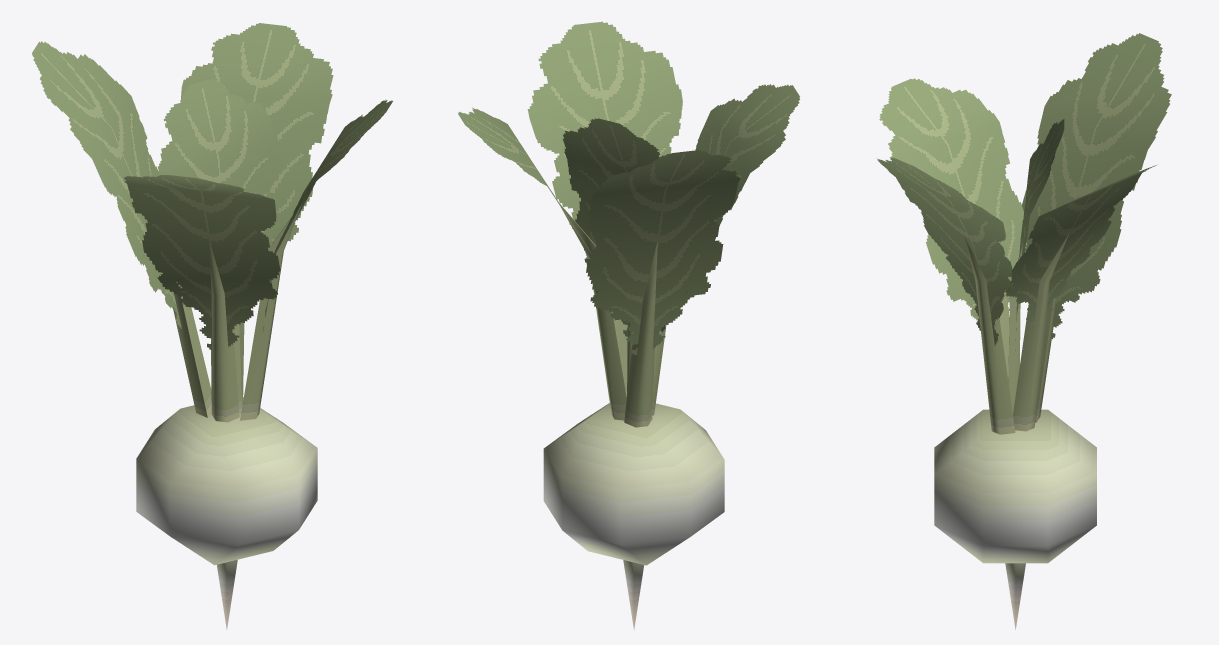
File: 0278_Big_Turnip.glb
3 views of the same model, side by side, from view 1: azimuth 30°, elevation 25°; view 2: azimuth 150°, elevation 25°; view 3: azimuth 270°, elevation 25° (orthographic). The views are drawn at different scales.
Parts seen in each view (by area): view 1: part_0; view 2: part_0; view 3: part_0.
Part boxes in pixels (x1,y1,x2,y2): part_0: [32, 23, 392, 629]; part_0: [458, 21, 799, 630]; part_0: [877, 33, 1171, 629].
Size of the model in its own units: 6.84 by 11.08 by 6.71.
1 material, 1 textured.
